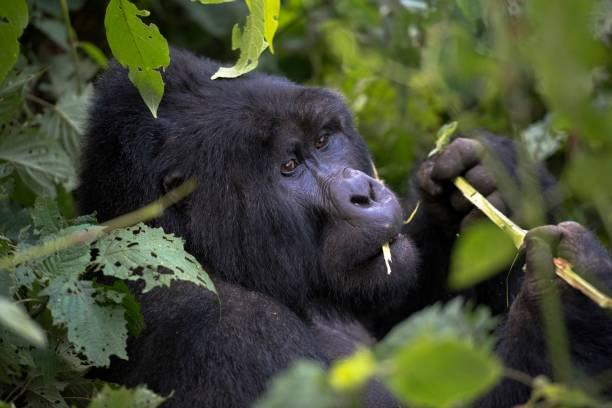goriile_montagne: (97, 58, 423, 369)
